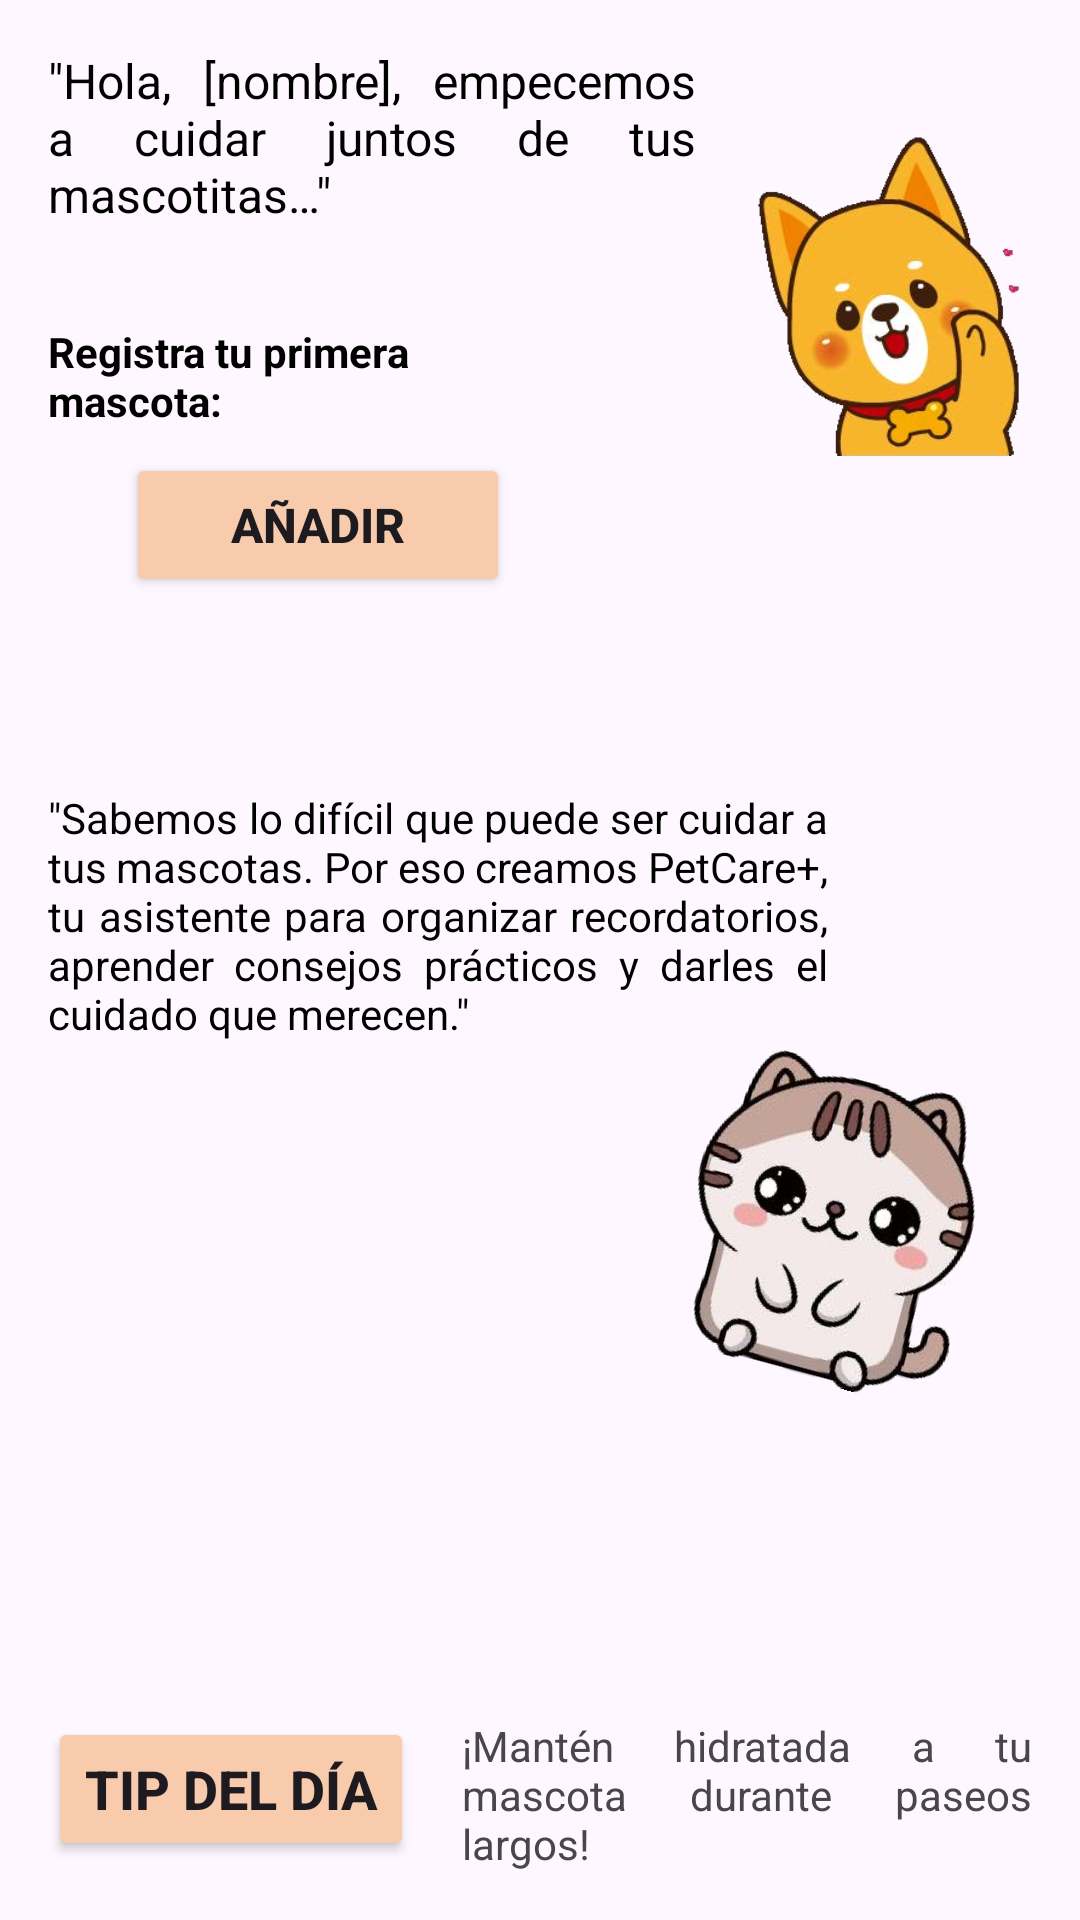

Named icons in this screenshot (1080px x 1920px) and their centers, [x,y]:
perro: [888,296]
